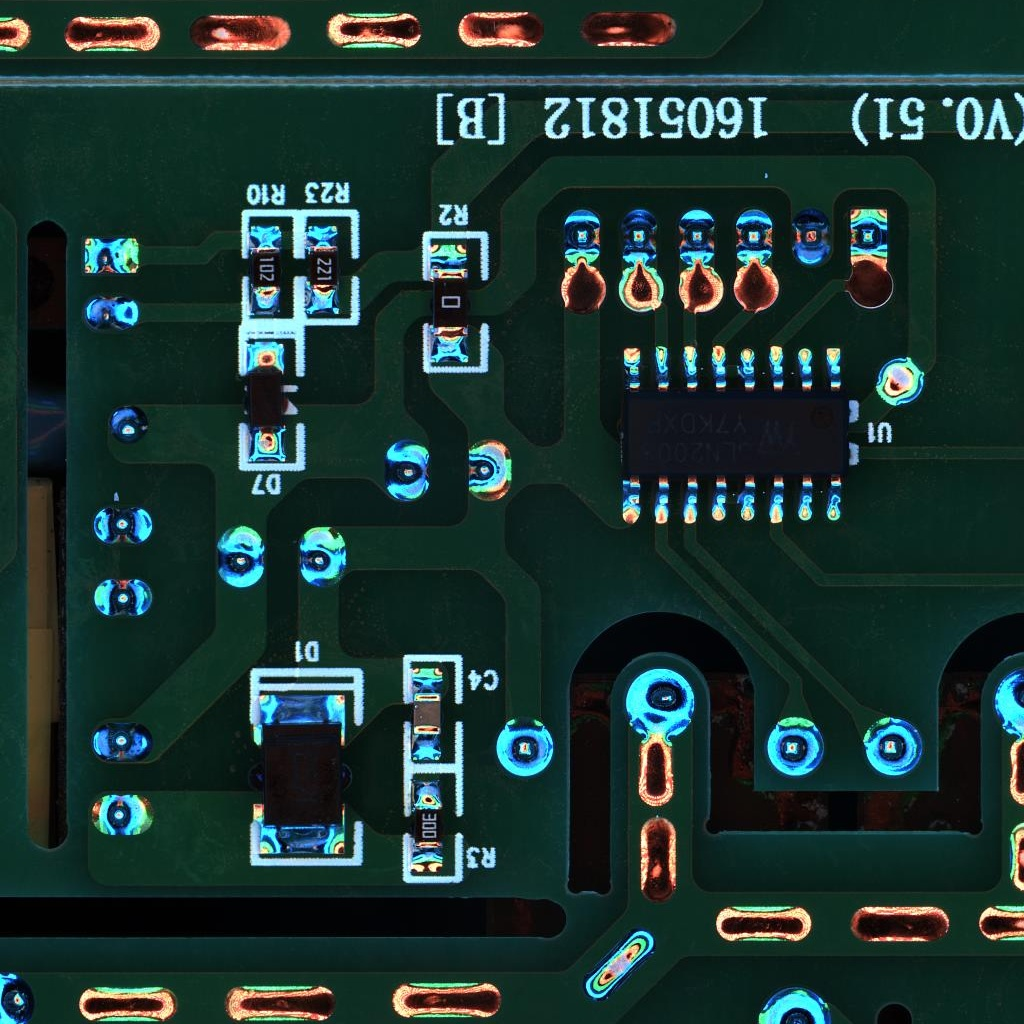spot: (623, 665, 697, 741), (862, 714, 926, 780), (765, 713, 827, 781), (492, 717, 557, 779), (213, 525, 266, 590), (295, 524, 347, 589), (753, 984, 834, 1024), (88, 791, 158, 836), (466, 437, 514, 502), (384, 440, 431, 505), (88, 720, 155, 763), (791, 206, 835, 269), (875, 354, 926, 408), (92, 503, 154, 546), (80, 234, 143, 275), (92, 578, 155, 619), (993, 665, 1024, 743), (734, 207, 774, 267), (619, 207, 659, 266), (677, 208, 717, 266), (563, 208, 601, 267), (849, 207, 889, 260), (84, 296, 140, 332), (1, 970, 36, 1024), (107, 404, 150, 447)
